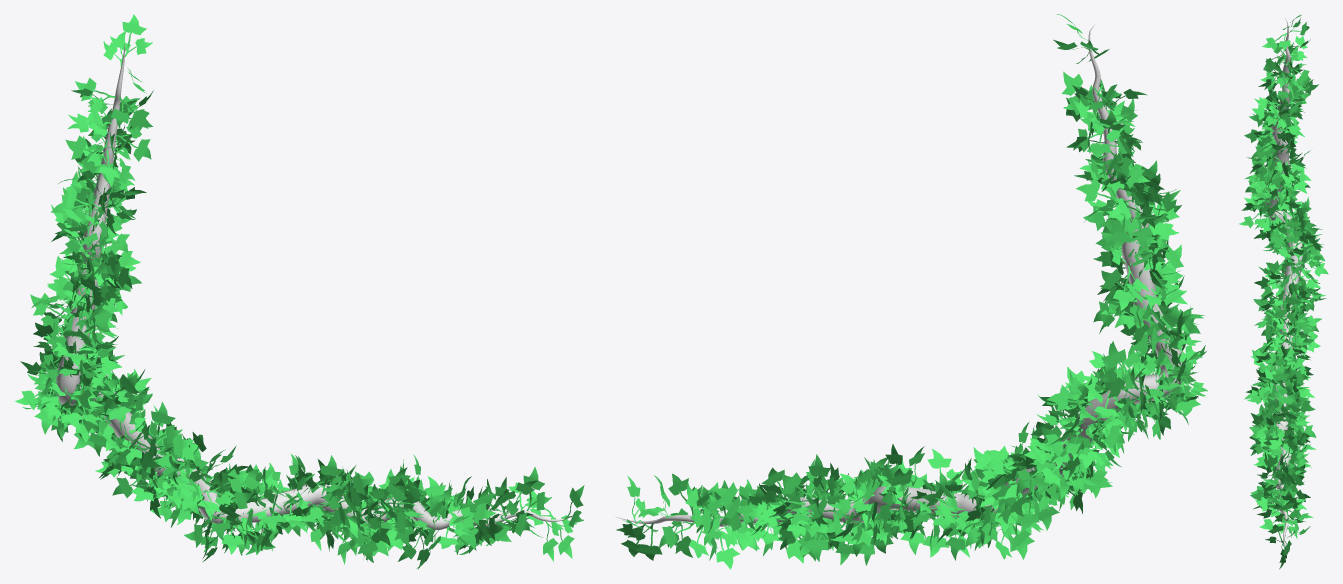
Rendered from VineDeco2.fbx.
The picture shows the model from 3 angles, left to right: view 1: azimuth 30°, elevation 25°; view 2: azimuth 150°, elevation 25°; view 3: azimuth 270°, elevation 25°; orthographic projection. The views are drawn at different scales.
Visible parts, largest first — view 1: BézierCurve.016; view 2: BézierCurve.016; view 3: BézierCurve.016.
Boxes of the visible parts, x1=… form: BézierCurve.016: x1=15, y1=14, x2=584, y2=569; BézierCurve.016: x1=615, y1=14, x2=1207, y2=569; BézierCurve.016: x1=1239, y1=14, x2=1328, y2=569.
Bounding box in the file's own units: 1049 × 1121 × 219.
